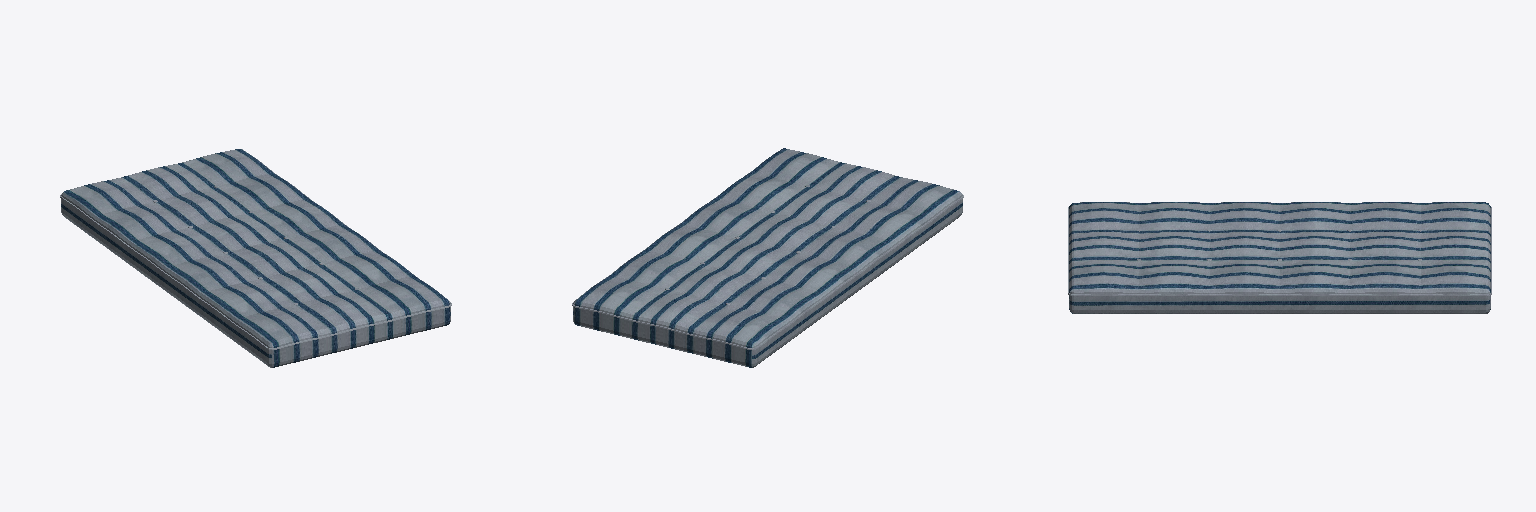
The picture shows the model from 3 angles: view 1: azimuth 30°, elevation 25°; view 2: azimuth 150°, elevation 25°; view 3: azimuth 270°, elevation 25°; orthographic projection.
Parts seen in each view (by area): view 1: Mesh1 matrass1 Model; view 2: Mesh1 matrass1 Model; view 3: Mesh1 matrass1 Model.
Part boxes in pixels (x1,y1,x2,y2): Mesh1 matrass1 Model: (60,149,451,367); Mesh1 matrass1 Model: (572,148,963,367); Mesh1 matrass1 Model: (1068,202,1491,313).
Bounding box in the file's own units: 1.2 × 0.189 × 2.39.
2 materials, 1 textured.